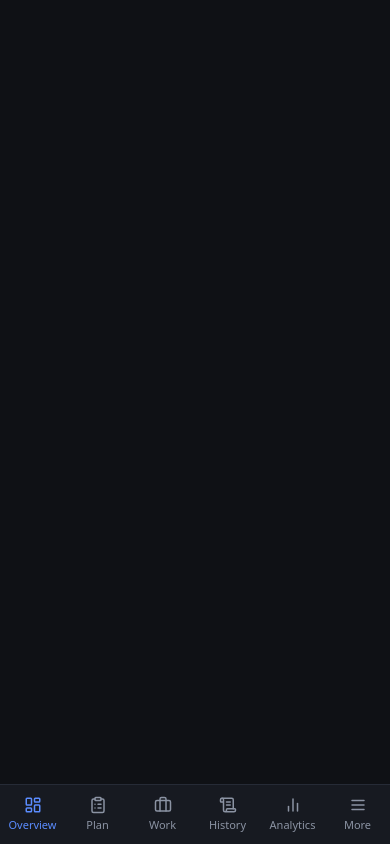
it: BottomTabBar mobile More navigation › makes project switching, theme, and sign out reachable and closes after actions
This screenshot has width=390, height=844.
Click the button titled "More". click: (358, 814)
box: [325,785,389,843]
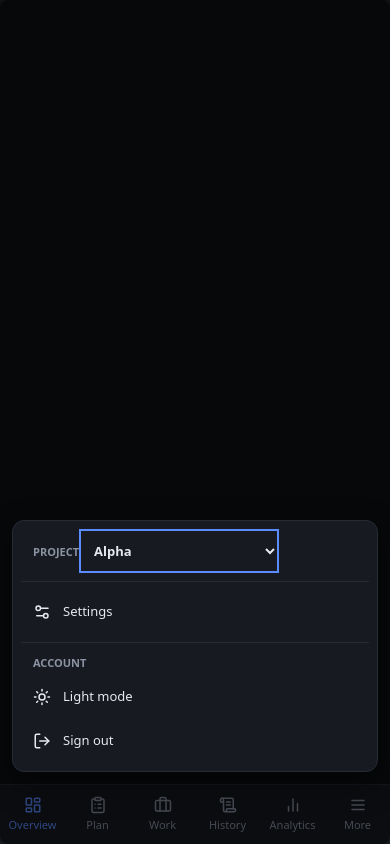
Select "Beta" in the dropdown titled "Switch project". click: (179, 550)
box: [79,528,279,572]
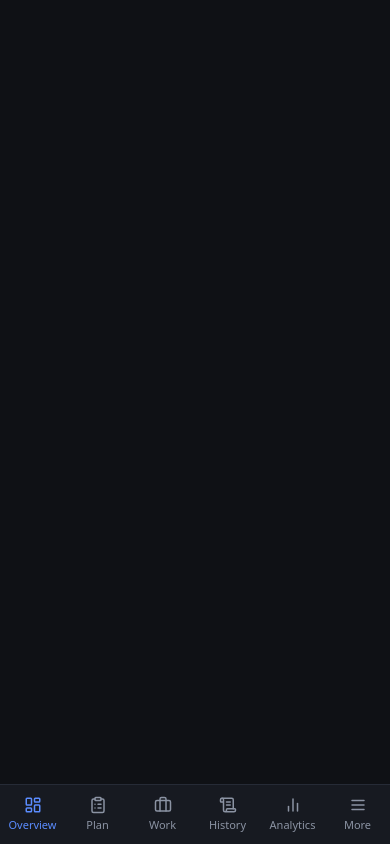
Result: the button titled "More" is collapsed
Click the button titled "More". click: (358, 814)
box: [325,785,389,843]
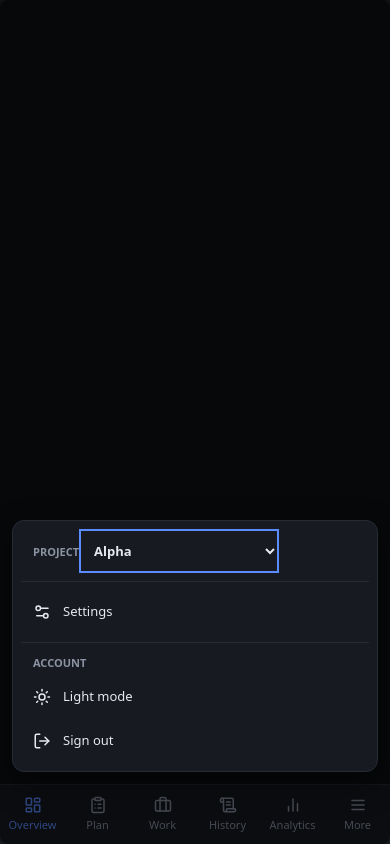
Click the button "Light mode". click: (98, 696)
box: [21,675,369,719]
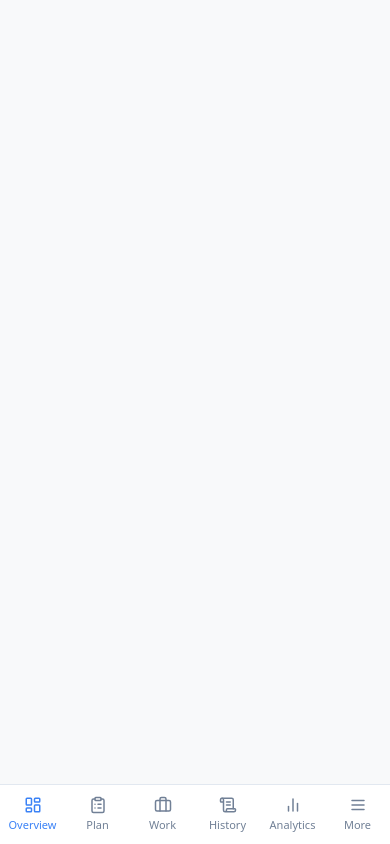
Result: the button titled "More" is collapsed
Click the button titled "More". click: (358, 814)
box: [325,785,389,843]
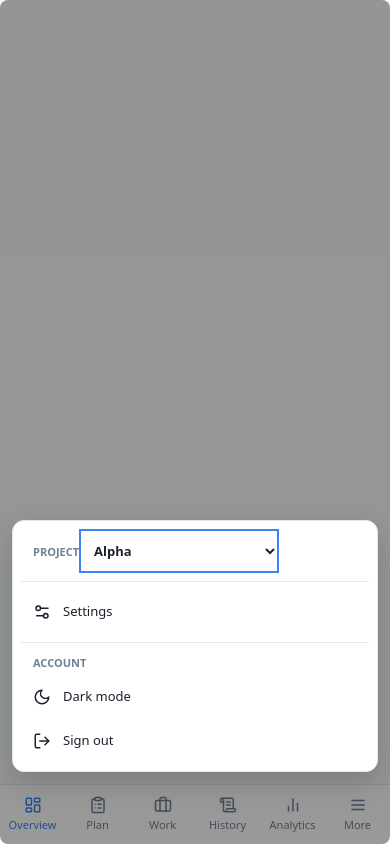
Click the button "Sign out". click: (88, 740)
box: [21,719,369,763]
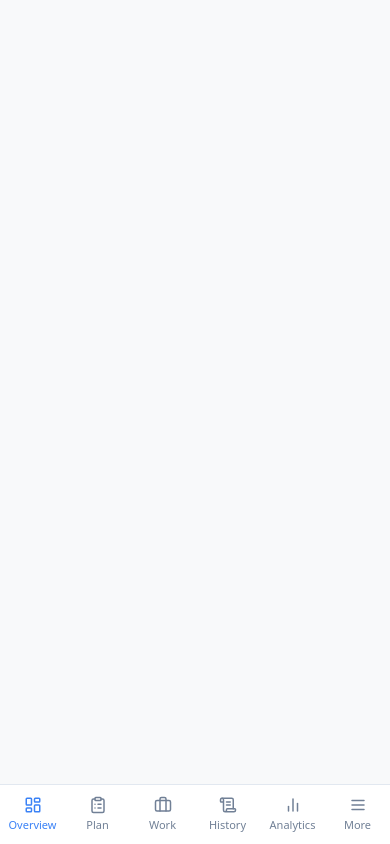
Result: the button titled "More" is collapsed at [325,785,389,843]
